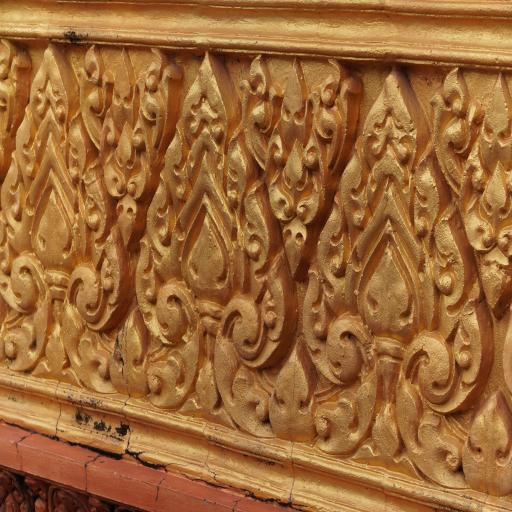lua: (308, 70, 491, 488), (137, 50, 295, 422), (5, 48, 120, 394), (228, 50, 375, 282), (76, 39, 186, 251), (418, 72, 512, 313), (0, 37, 31, 180)
